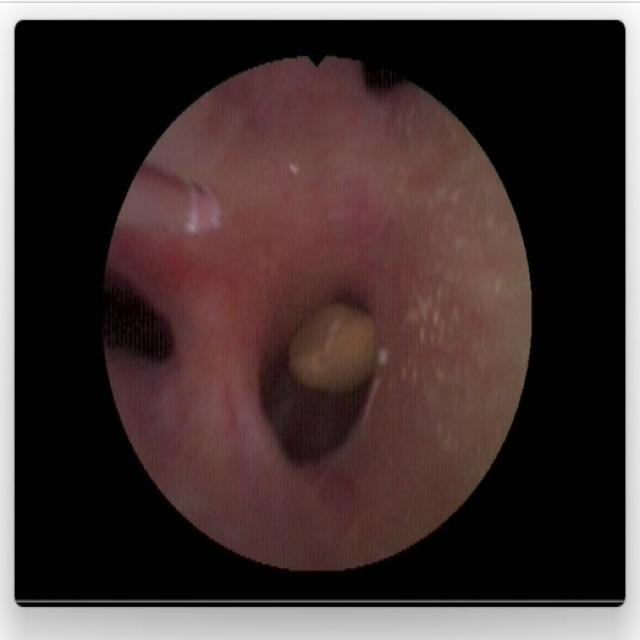stone: (290, 306, 374, 390)
tissue: (114, 69, 524, 549)
